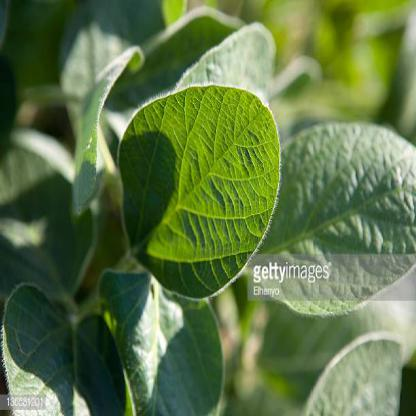soybean leaf: (114, 81, 283, 304)
